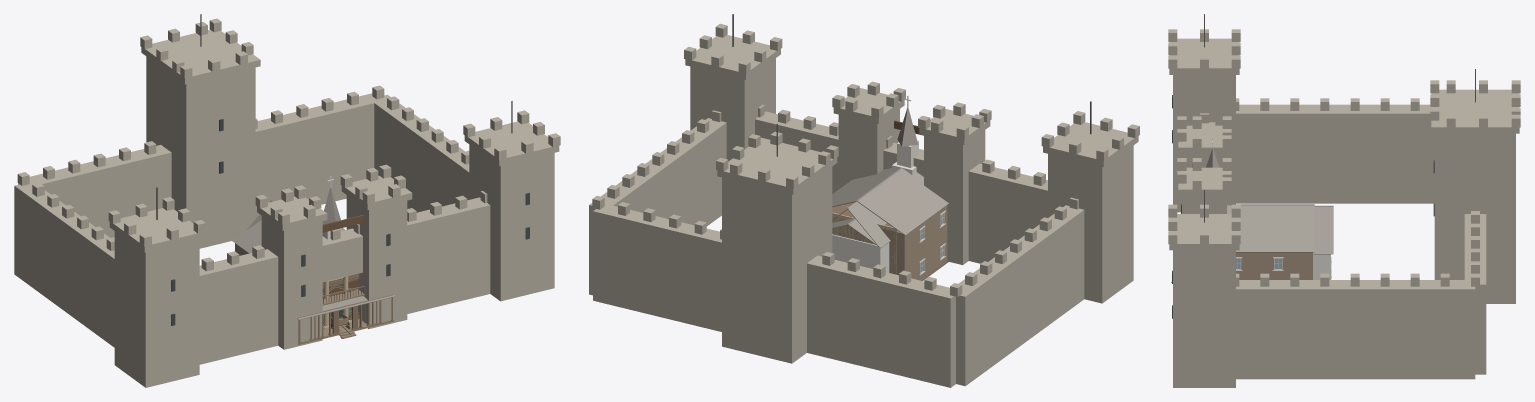
File: town_kit2.glb
The picture shows the model from 3 angles, left to right: view 1: azimuth 30°, elevation 25°; view 2: azimuth 150°, elevation 25°; view 3: azimuth 270°, elevation 25°; orthographic projection.
Parts seen in each view (by area): view 1: FortKnox_geo, Bldg_Saloon_geo, Bldg_A_geo, Bldg_C_geo, Bldg_Armory_geo, Church_geo; view 2: FortKnox_geo, Bldg_Saloon_geo, Church_geo, Bldg_Treasury_geo; view 3: FortKnox_geo, Bldg_Saloon_geo, Church_geo.
Boxes of the visible parts, x1,y1,x2,y2 form: FortKnox_geo: [14, 14, 560, 387]; Bldg_Saloon_geo: [232, 220, 395, 344]; Bldg_A_geo: [317, 276, 376, 338]; Bldg_C_geo: [321, 275, 371, 337]; Bldg_Armory_geo: [313, 296, 379, 340]; Church_geo: [246, 176, 343, 281]; FortKnox_geo: [589, 14, 1139, 387]; Bldg_Saloon_geo: [832, 167, 948, 280]; Church_geo: [832, 95, 918, 272]; Bldg_Treasury_geo: [832, 201, 898, 274]; FortKnox_geo: [1168, 14, 1520, 387]; Bldg_Saloon_geo: [1227, 204, 1314, 279]; Church_geo: [1206, 137, 1333, 279].
Size of the model in its own units: 54 by 26.8 by 39.
